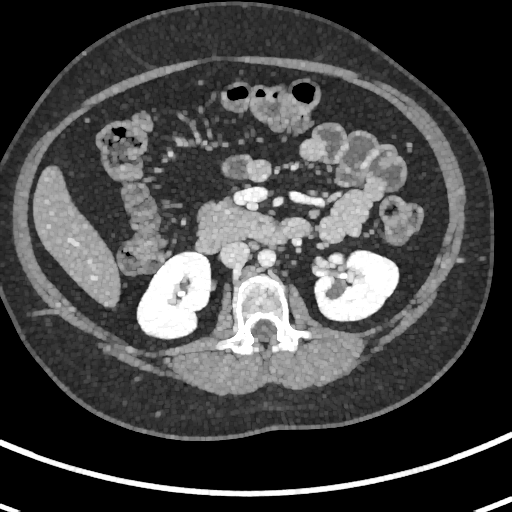Lesion: (324, 277, 347, 301)
